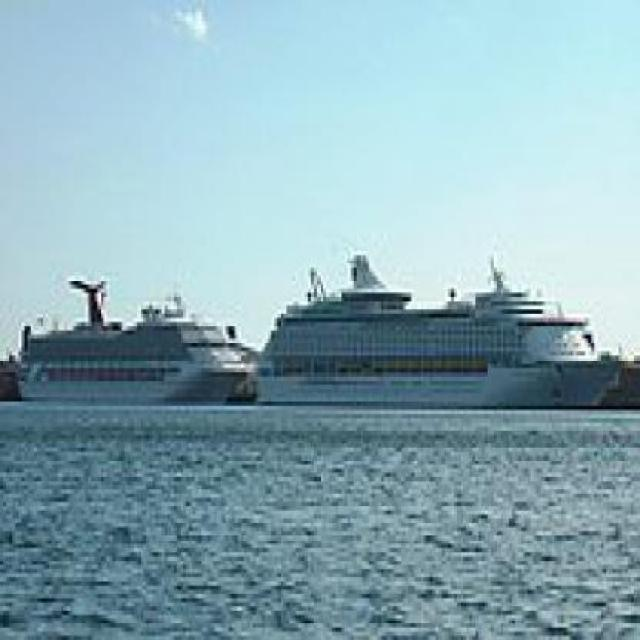cruise: (253, 228, 629, 437), (19, 257, 260, 420)
